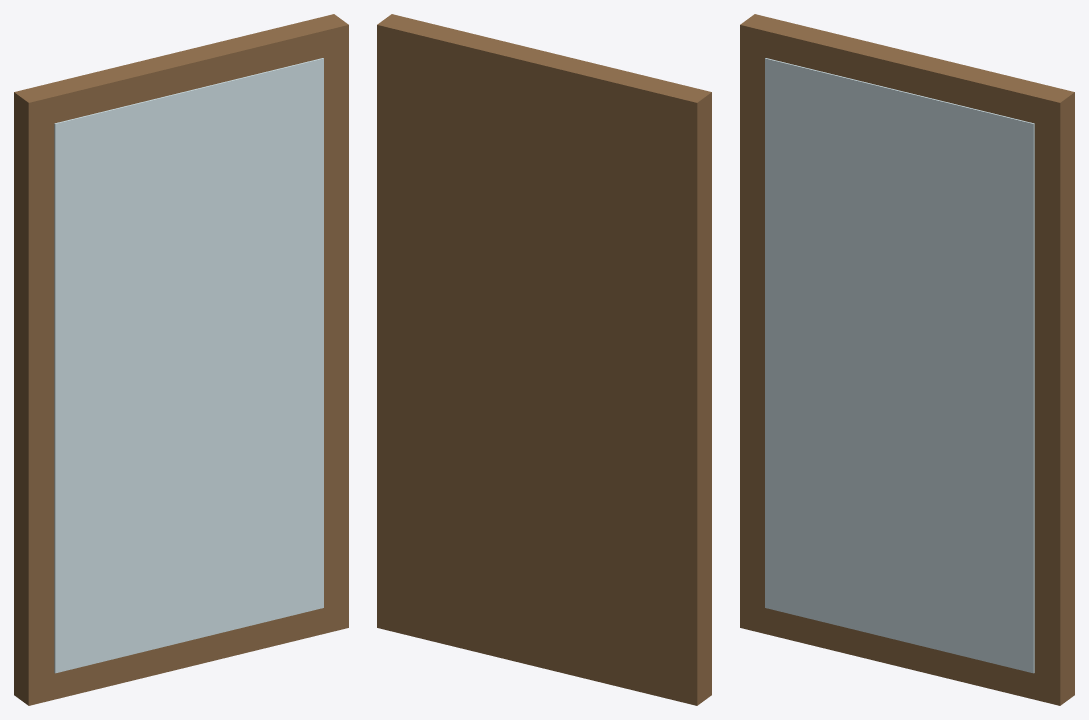
File: sm_product_mirror.glb
3 renders of one model, left to right at view 1: azimuth 30°, elevation 25°; view 2: azimuth 150°, elevation 25°; view 3: azimuth 330°, elevation 25°, orthographic.
Parts seen in each view (by area): view 1: mirror_1, mirror_0; view 2: mirror_0; view 3: mirror_1, mirror_0.
Boxes of the visible parts, x1,y1,x2,y2 form: mirror_1: [54, 58, 323, 673]; mirror_0: [14, 14, 348, 705]; mirror_0: [377, 14, 711, 705]; mirror_1: [765, 58, 1034, 673]; mirror_0: [740, 14, 1074, 705].
Size of what is drawn, in the model's own units: 0.5 by 0.9 by 0.042.
